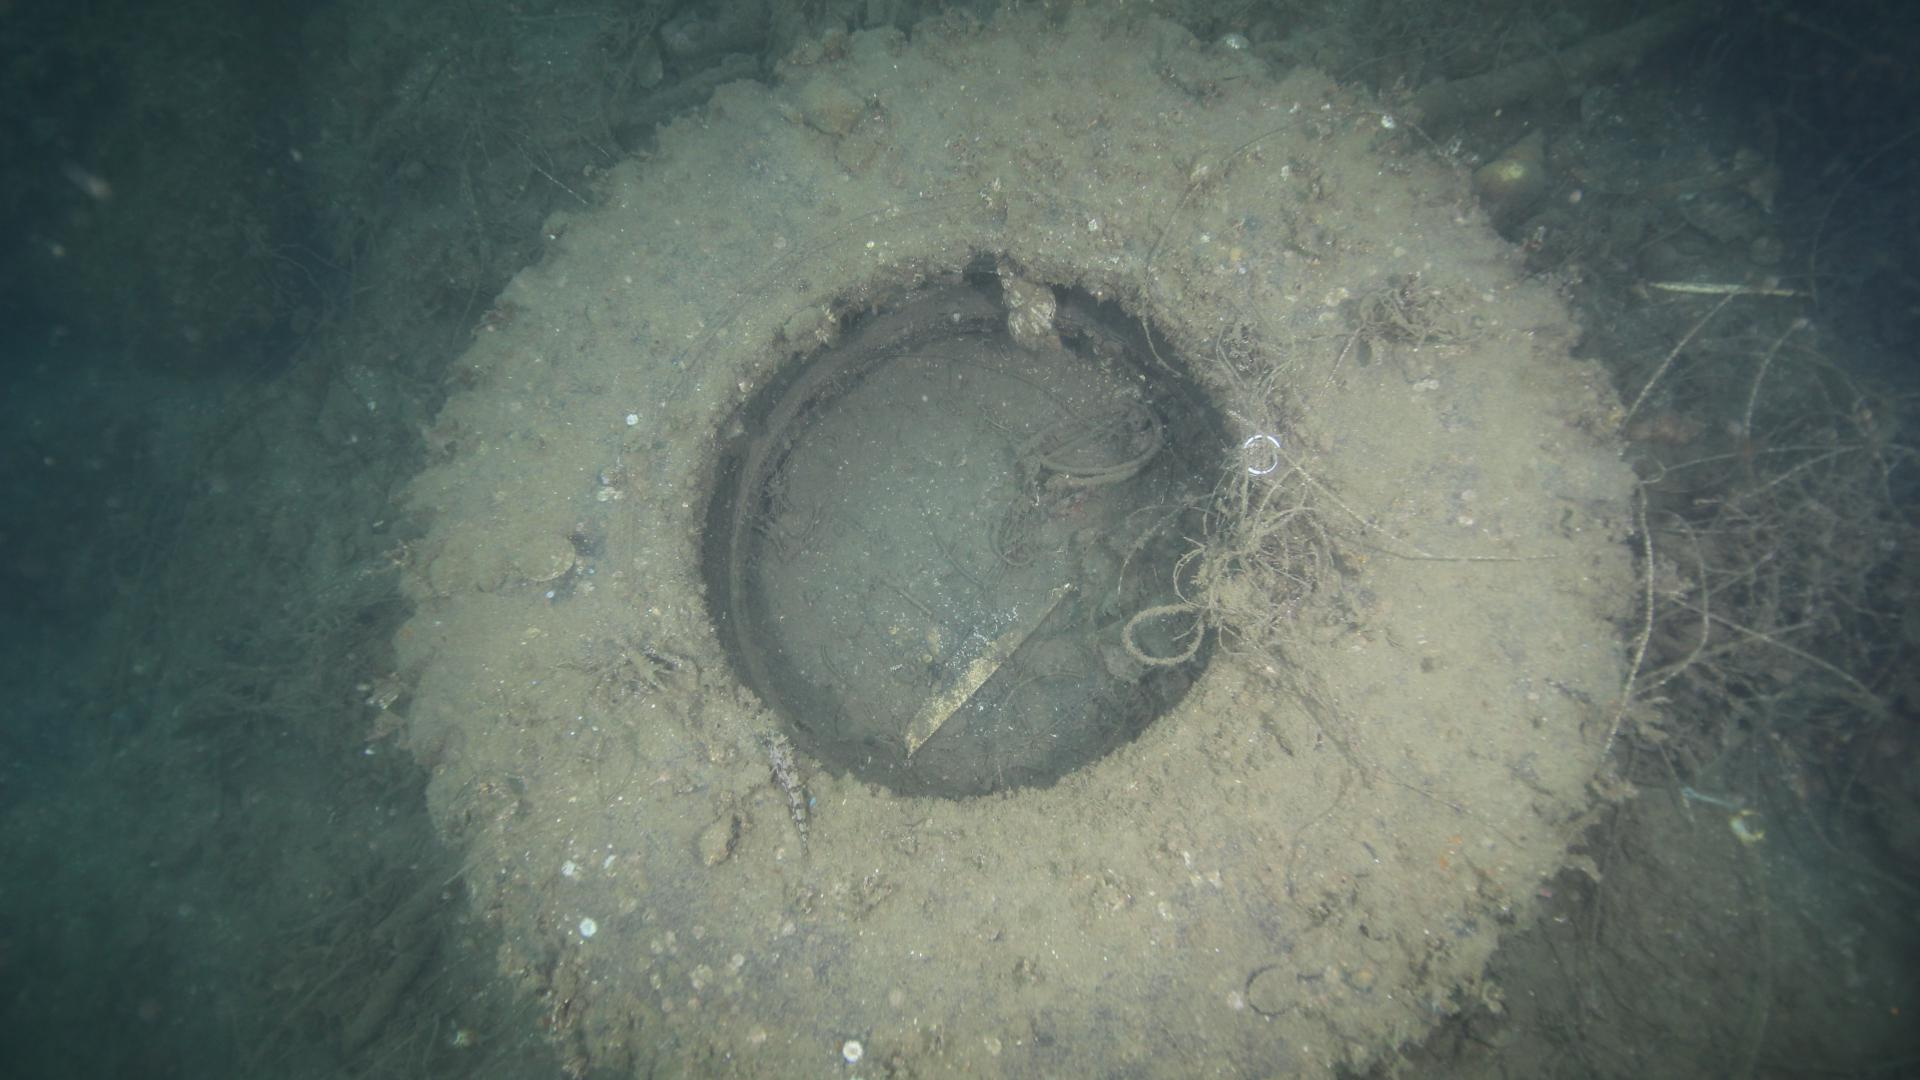tire: (377, 0, 1646, 1080)
